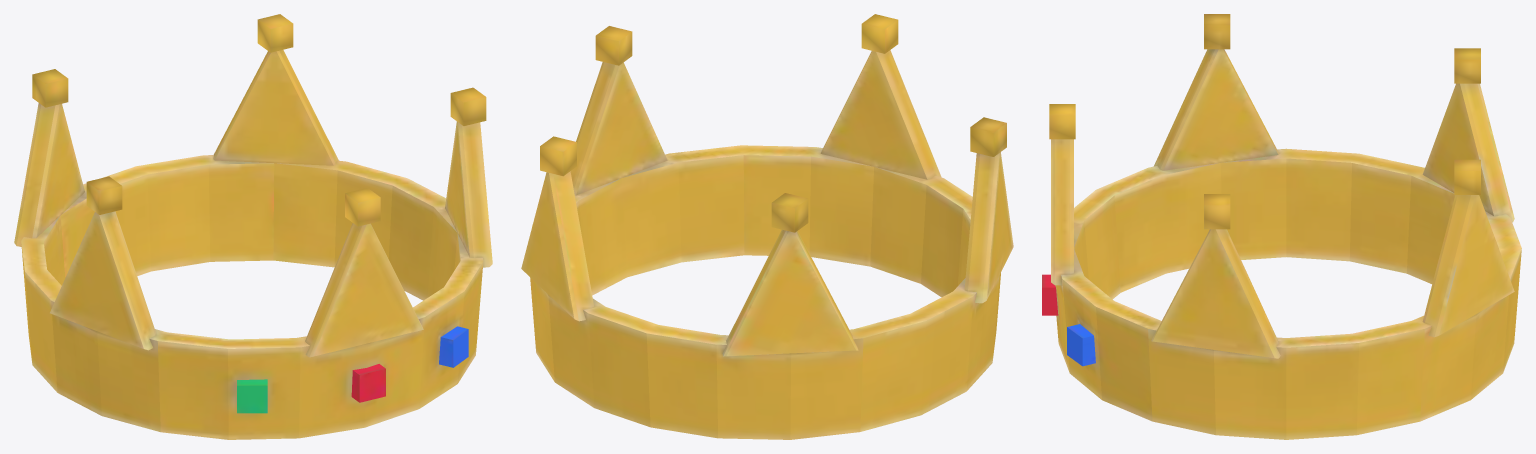
The model's file is crown.glb.
3 views of the same model, side by side, from view 1: azimuth 30°, elevation 25°; view 2: azimuth 150°, elevation 25°; view 3: azimuth 270°, elevation 25° (orthographic). The views are drawn at different scales.
Parts seen in each view (by area): view 1: Crown; view 2: Crown; view 3: Crown.
Part boxes in pixels (x1,y1,x2,y2): Crown: (14, 14, 492, 439); Crown: (521, 14, 1013, 439); Crown: (1042, 14, 1521, 439).
Bounding box in the file's own units: 0.2547 × 0.1349 × 0.2506.
1 material, 1 textured.
